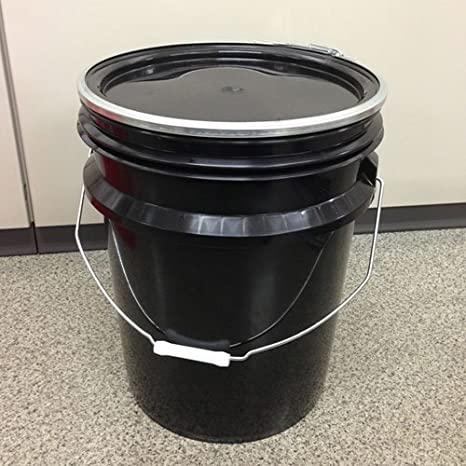plastic: (68, 38, 386, 442)
